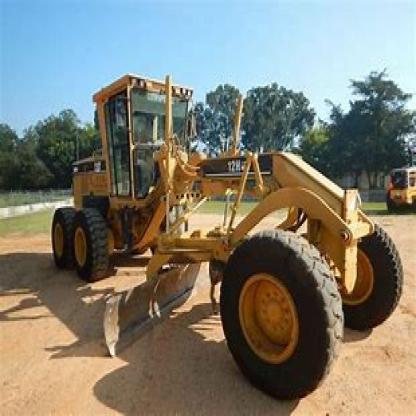bull_dozer/loader/grader: (36, 57, 401, 394)
